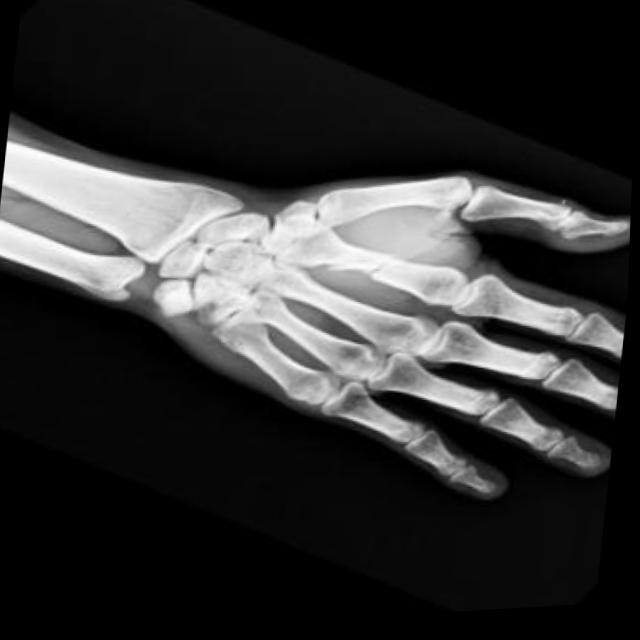fracture: (356, 258, 404, 287)
